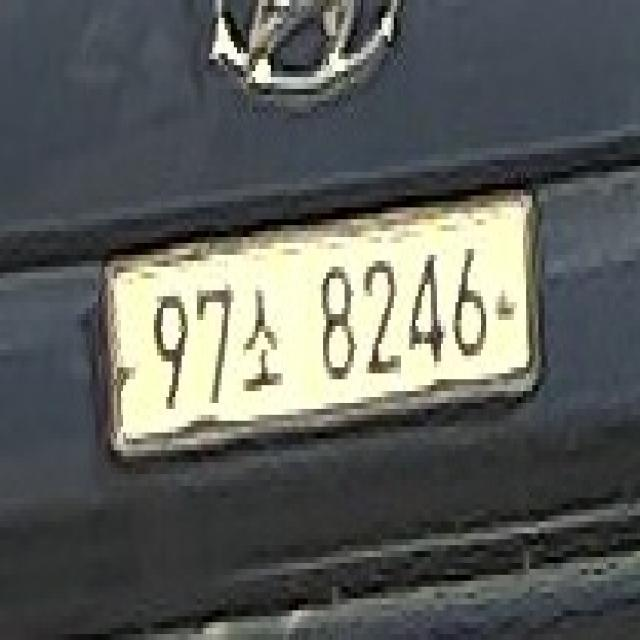2: (362, 257, 404, 387)
4: (406, 254, 449, 377)
6: (448, 240, 493, 362)
7: (194, 280, 237, 410)
8: (318, 260, 360, 388)
9: (150, 293, 190, 413)
license_plate: (105, 188, 532, 454)
so: (238, 281, 284, 404)
